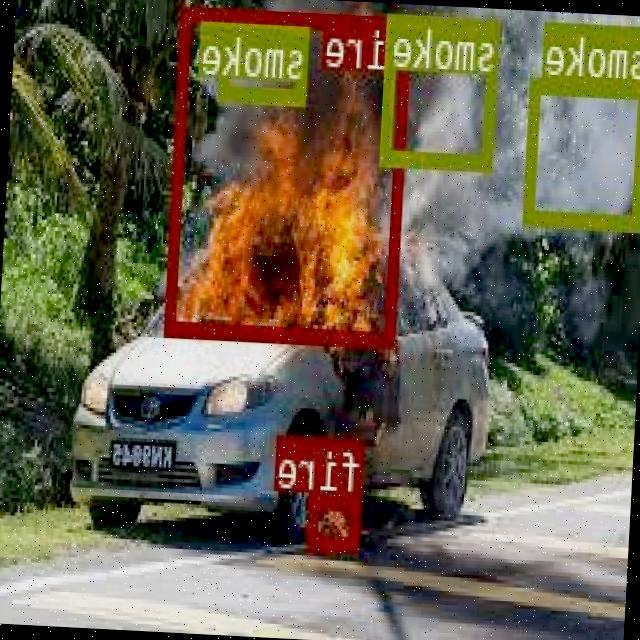fire: (168, 6, 414, 346), (309, 491, 364, 548)
smoke: (384, 13, 502, 167), (525, 76, 640, 230), (221, 23, 311, 103)
